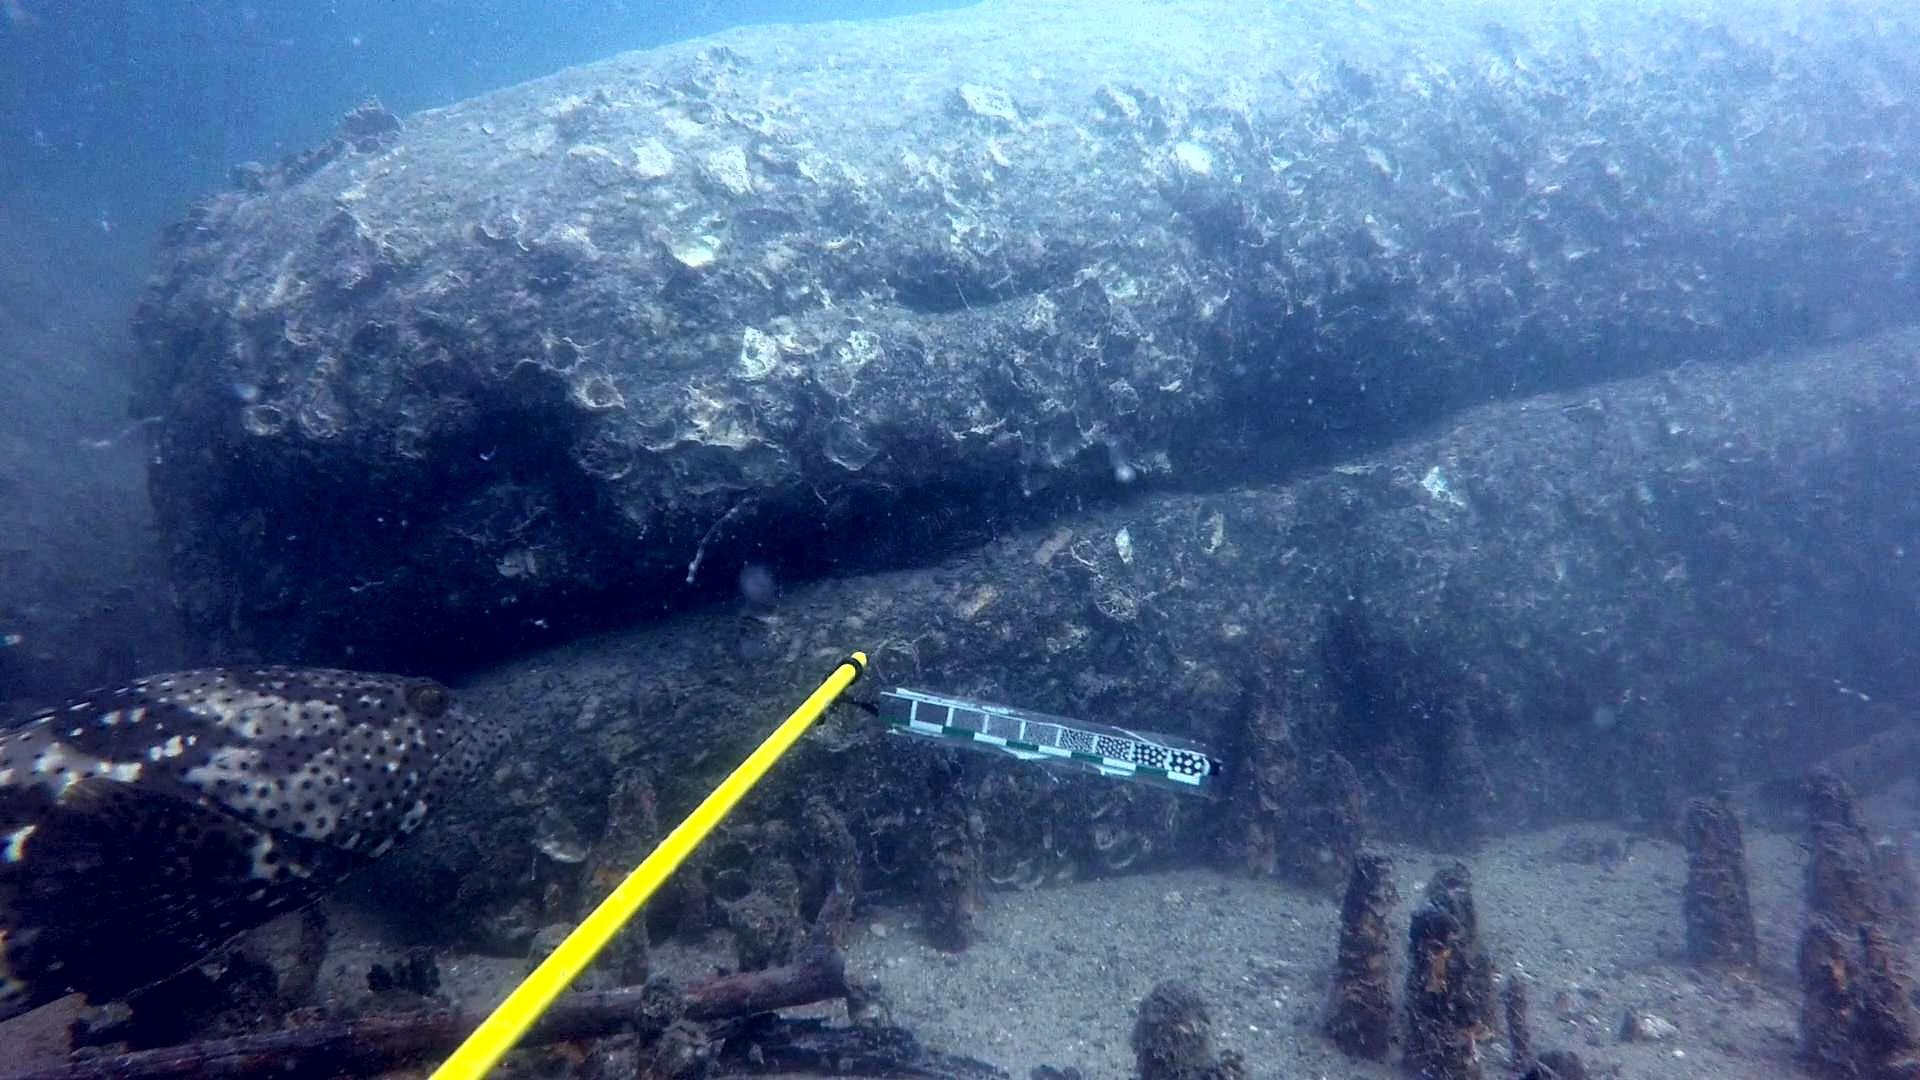epinephelus: (0, 662, 520, 1023)
